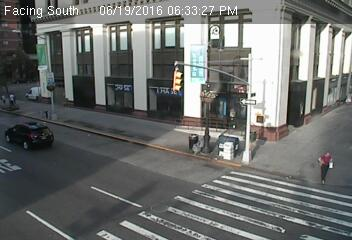neg: (237, 135, 257, 162), (197, 130, 215, 154), (184, 129, 201, 152), (43, 97, 60, 120), (126, 91, 141, 111), (101, 92, 115, 110)
pos: (312, 149, 339, 185), (5, 91, 18, 107)
